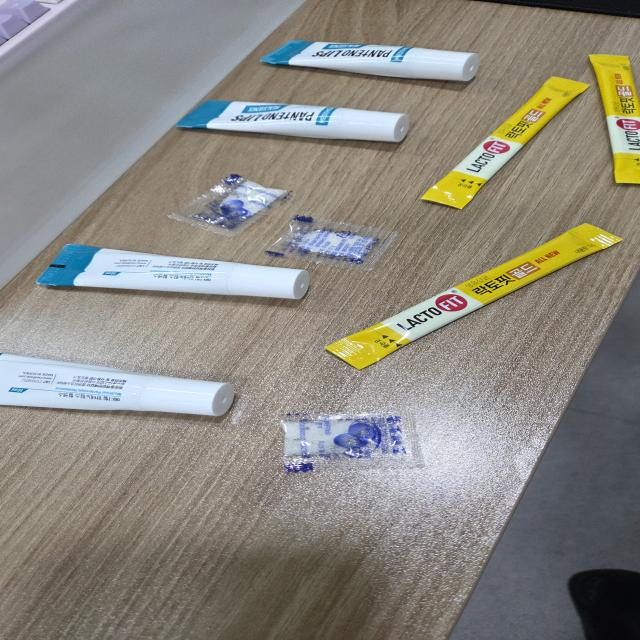lacto: (302, 219, 632, 382), (411, 71, 596, 217), (584, 44, 640, 188)
lip: (25, 237, 327, 307), (0, 349, 251, 428), (237, 31, 504, 92), (163, 93, 430, 148)
salt: (267, 405, 440, 487), (154, 169, 305, 245), (252, 213, 409, 278)
